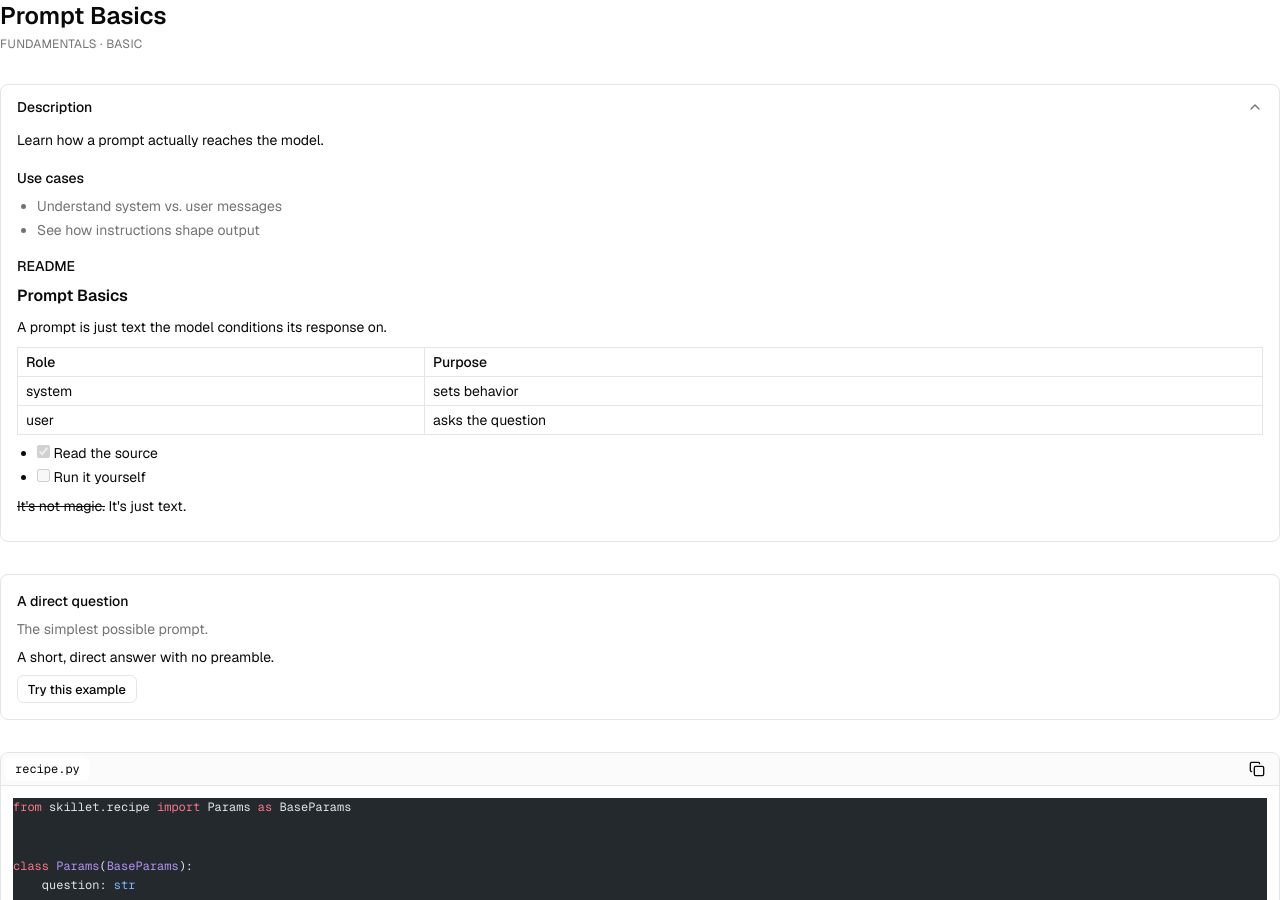
Test: RecipeView › clicking 'Try this example' pre-fills AND focuses the run form
Step 1. Click the button "Try this example" → x=77, y=689, box [17,675,137,703]
(page scrolled)
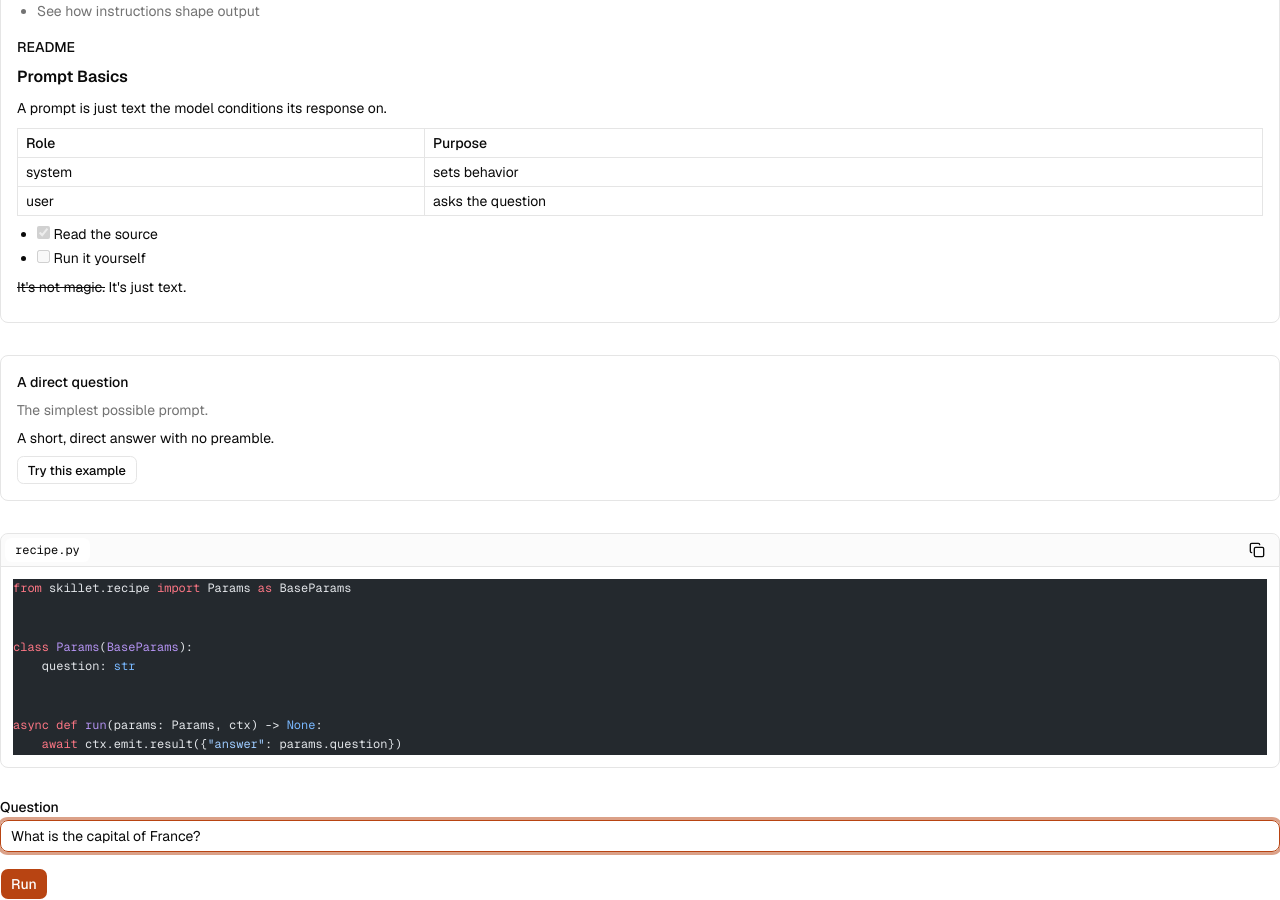
Now the field labelled "Question" holds "What is the capital of France?", box [0,820,1279,852]
